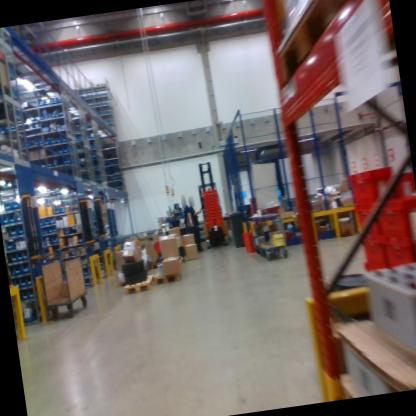forklift: (190, 153, 229, 250)
pallet: (265, 0, 399, 109), (151, 259, 184, 288), (123, 271, 157, 296), (117, 272, 129, 289)
small_load_carrier: (347, 158, 399, 216), (354, 227, 389, 278), (377, 197, 416, 242), (383, 227, 416, 276), (354, 196, 383, 240), (390, 166, 416, 206), (242, 238, 260, 255), (214, 214, 224, 226), (206, 217, 215, 228)
